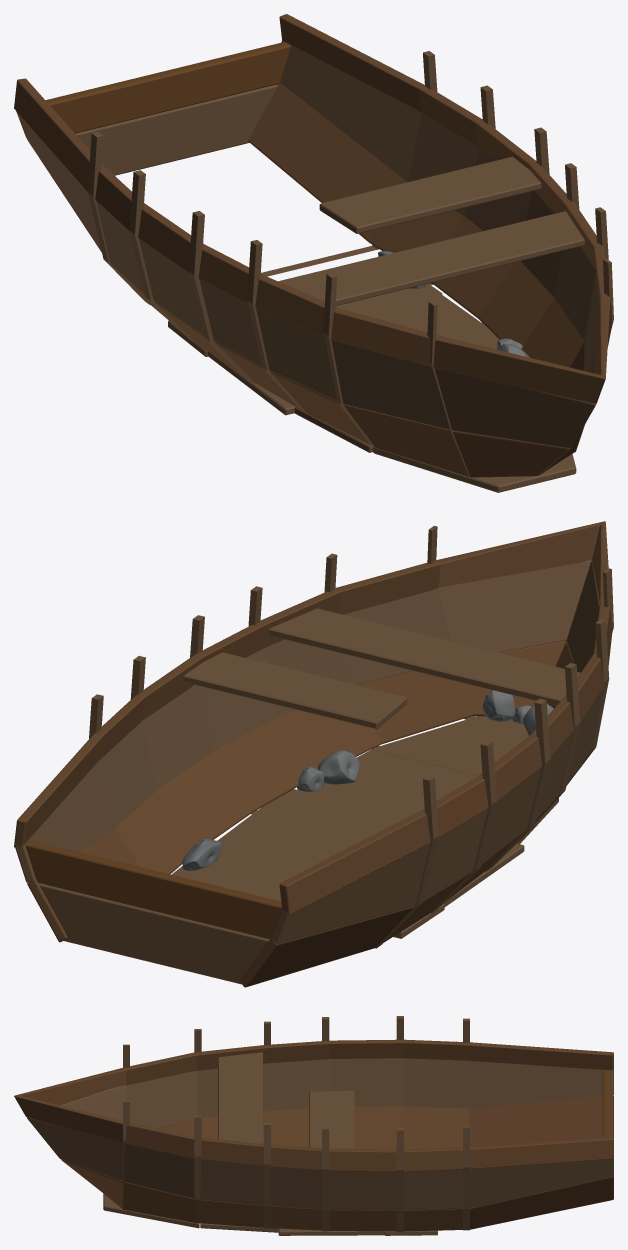
Rendered from Broken Boat 3.fbx.
3 views of the same model, one above another, from view 1: azimuth 30°, elevation 25°; view 2: azimuth 150°, elevation 25°; view 3: azimuth 270°, elevation 25° (orthographic). The views are drawn at different scales.
Parts seen in each view (by area): view 1: Boat Main Shape.003, Boat Main Shape.004, Boat Main Shape.002, Boat Main Shape.001, Cube.001, Boat Back Part.002, Boat Back Part.003, Cube, Cube.012, Cube.006, Cube.007, Cube.005; view 2: Boat Main Shape.003, Boat Main Shape.004, Boat Main Shape.002, Boat Main Shape.001, Cube.001, Boat Back Part.003, Boat Back Part.002, Cube.012, Cube, Cube.005, Cube.006, Cube.007 (+3 smaller); view 3: Boat Main Shape.003, Boat Main Shape.004, Boat Main Shape.002, Boat Main Shape.001, Cube.001, Cube, Cube.006, Boat Back Part.002, Cube.012, Cube.005.
Boxes of the visible parts, bbox=[...] form: Boat Main Shape.003: bbox=[16, 40, 599, 448]; Boat Main Shape.004: bbox=[28, 83, 584, 477]; Boat Main Shape.002: bbox=[14, 14, 612, 403]; Boat Main Shape.001: bbox=[88, 51, 613, 477]; Cube.001: bbox=[278, 211, 584, 305]; Boat Back Part.002: bbox=[45, 42, 290, 133]; Boat Back Part.003: bbox=[75, 84, 277, 175]; Cube: bbox=[319, 156, 541, 233]; Cube.012: bbox=[207, 289, 499, 415]; Cube.006: bbox=[373, 447, 576, 492]; Cube.007: bbox=[168, 285, 442, 356]; Cube.005: bbox=[289, 403, 372, 452]; Boat Main Shape.003: bbox=[15, 560, 603, 943]; Boat Main Shape.004: bbox=[27, 641, 590, 987]; Boat Main Shape.002: bbox=[14, 521, 612, 914]; Boat Main Shape.001: bbox=[89, 525, 613, 948]; Cube.001: bbox=[268, 608, 580, 705]; Boat Back Part.003: bbox=[39, 883, 269, 984]; Boat Back Part.002: bbox=[25, 840, 281, 939]; Cube.012: bbox=[217, 789, 524, 906]; Cube: bbox=[183, 652, 407, 729]; Cube.005: bbox=[292, 750, 558, 843]; Cube.006: bbox=[371, 716, 528, 775]; Cube.007: bbox=[171, 853, 444, 938]; Boat Main Shape.003: bbox=[27, 1058, 613, 1210]; Boat Main Shape.004: bbox=[61, 1095, 613, 1231]; Boat Main Shape.002: bbox=[14, 1039, 613, 1171]; Boat Main Shape.001: bbox=[123, 1016, 469, 1231]; Cube.001: bbox=[218, 1052, 262, 1143]; Cube: bbox=[309, 1090, 354, 1148]; Cube.006: bbox=[103, 1193, 199, 1228]; Boat Back Part.002: bbox=[602, 1069, 610, 1137]; Cube.012: bbox=[278, 1228, 384, 1235]; Cube.005: bbox=[200, 1223, 278, 1232].
Size of the model in its own units: 285 by 142 by 618.
